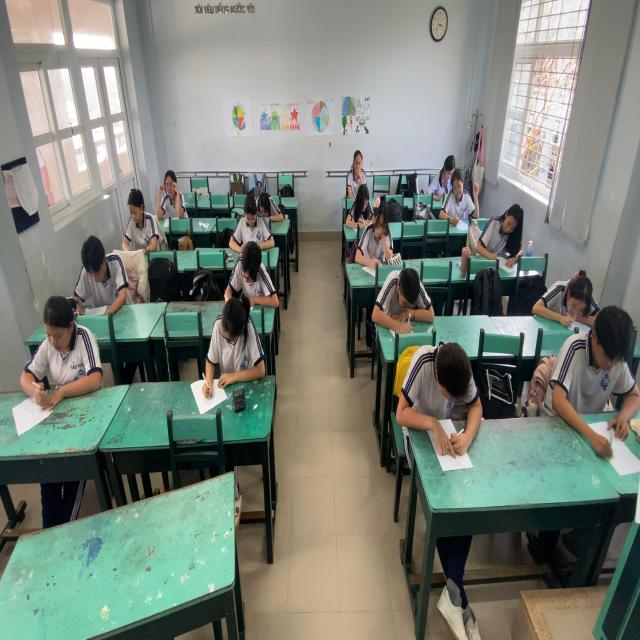not_cheating: (554, 309, 640, 405), (27, 288, 102, 395), (404, 336, 479, 426), (208, 296, 272, 384), (225, 232, 285, 312), (76, 233, 128, 309), (376, 264, 436, 329), (528, 271, 598, 322), (359, 202, 402, 274), (478, 202, 526, 266), (122, 178, 160, 257), (153, 157, 186, 215), (235, 188, 268, 243), (443, 171, 476, 218), (429, 149, 458, 195), (346, 174, 372, 222), (254, 184, 283, 222), (347, 139, 369, 184)
